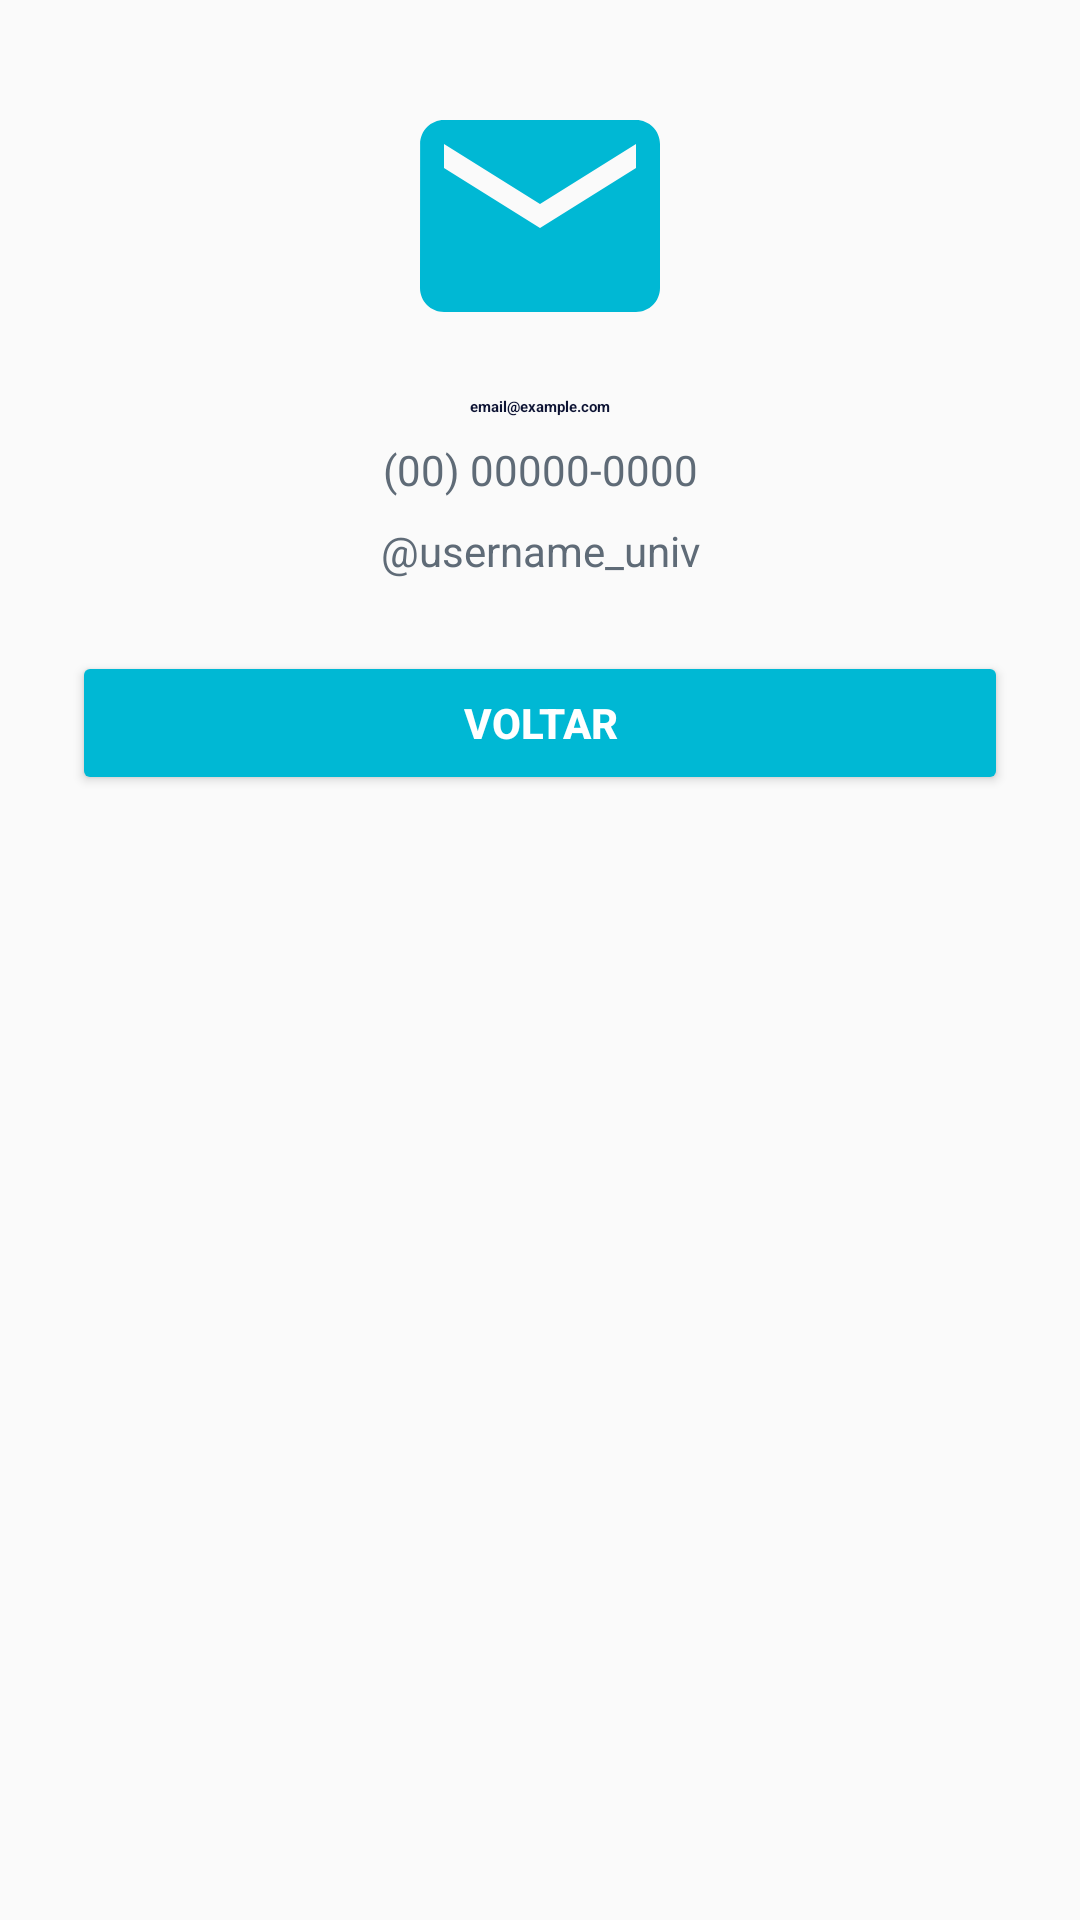

Icons on this 1080px×1920px Android screen, each with the point to tap as (x=x, y=y):
Ícone de contato: (x=540, y=216)
